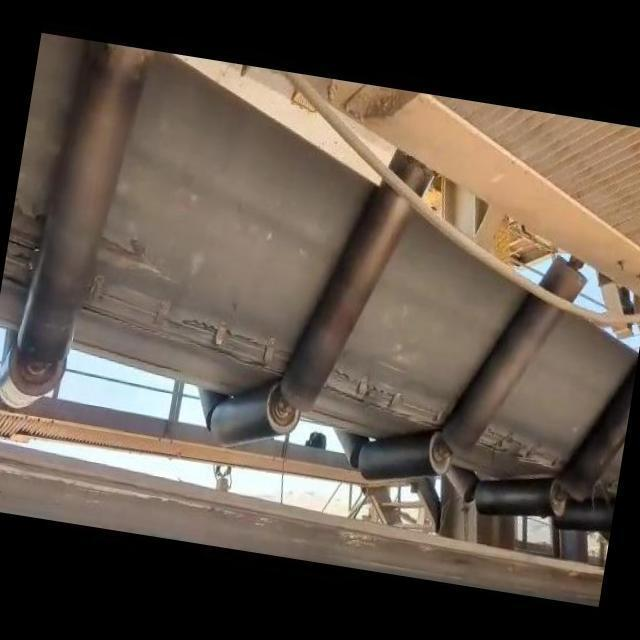Tear: (87, 270, 295, 380), (327, 364, 451, 432), (477, 417, 569, 473), (4, 196, 46, 298)
Wear: (94, 221, 180, 288)
